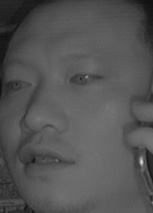eye: (65, 66, 106, 89), (3, 72, 36, 94)
mouth: (16, 139, 73, 178)
